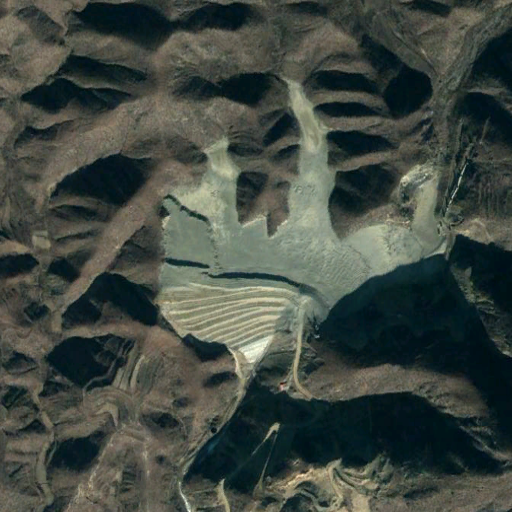tp: (160, 77, 442, 385)
